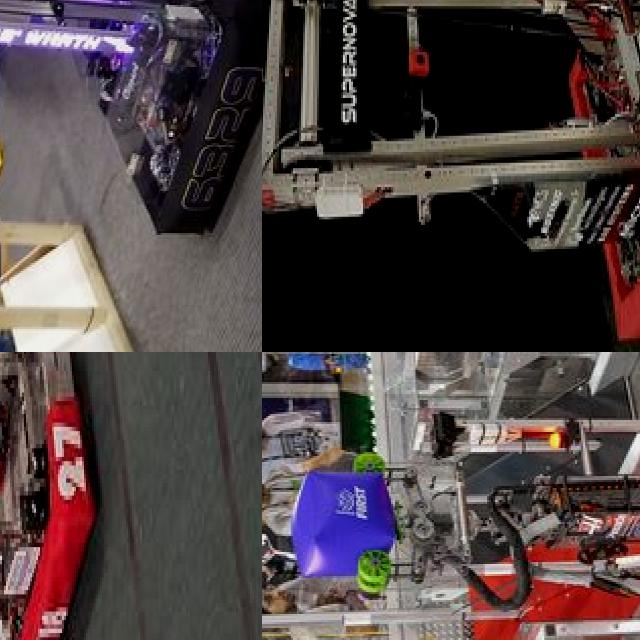FRC-Robots: (262, 0, 640, 352), (268, 415, 640, 640), (0, 0, 262, 266), (0, 352, 99, 640)
